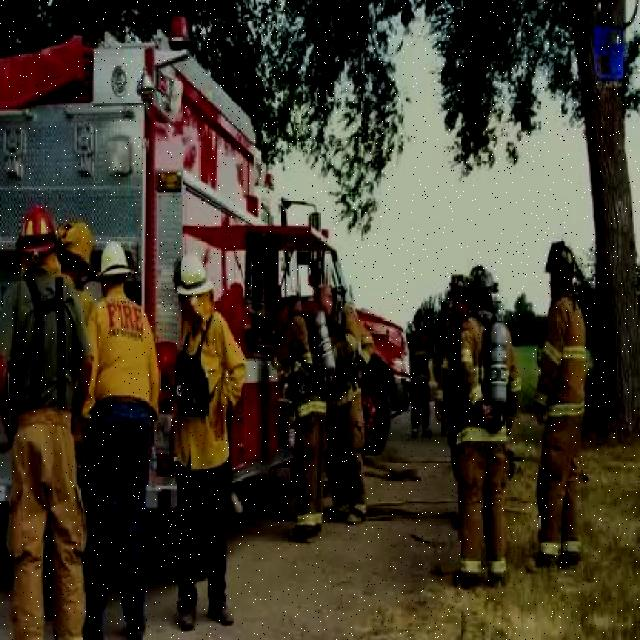Helmet: (14, 203, 58, 262), (92, 239, 134, 284), (173, 252, 212, 298), (544, 240, 584, 282), (460, 264, 500, 298), (447, 274, 464, 304)
Mask: (452, 312, 520, 580), (533, 286, 590, 562), (268, 299, 328, 533), (328, 300, 363, 508), (406, 330, 432, 432)
